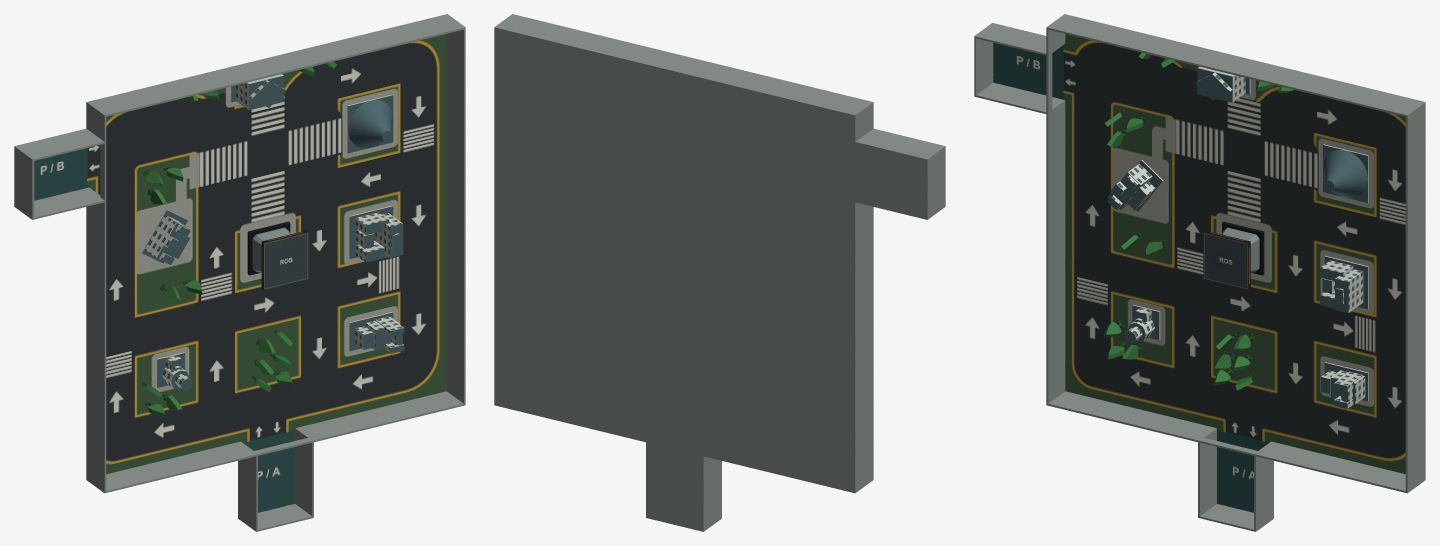
File: ros_sandbox_visual.obj
The picture shows the model from 3 angles, left to right: view 1: azimuth 30°, elevation 25°; view 2: azimuth 150°, elevation 25°; view 3: azimuth 330°, elevation 25°; orthographic projection.
Visible parts, largest first — view 1: sandbox_mesh_007, sandbox_mesh_006, sandbox_mesh_045, sandbox_mesh_001, sandbox_mesh_005, sandbox_mesh_004, sandbox_mesh_003, sandbox_mesh_002, sandbox_mesh_047, sandbox_mesh_046; view 2: sandbox_mesh_007; view 3: sandbox_mesh_007, sandbox_mesh_045, sandbox_mesh_006, sandbox_mesh_001, sandbox_mesh_005, sandbox_mesh_004, sandbox_mesh_003, sandbox_mesh_002, sandbox_mesh_047.
Part boxes in pixels (x1,y1,x2,y2): sandbox_mesh_007: [14, 14, 465, 531]; sandbox_mesh_006: [349, 205, 403, 262]; sandbox_mesh_045: [261, 230, 308, 289]; sandbox_mesh_001: [347, 94, 393, 153]; sandbox_mesh_005: [349, 312, 404, 353]; sandbox_mesh_004: [141, 209, 190, 264]; sandbox_mesh_003: [231, 74, 286, 110]; sandbox_mesh_002: [157, 352, 192, 390]; sandbox_mesh_047: [252, 227, 290, 272]; sandbox_mesh_046: [247, 221, 290, 275]; sandbox_mesh_007: [494, 14, 945, 531]; sandbox_mesh_007: [974, 14, 1425, 531]; sandbox_mesh_045: [1203, 230, 1250, 290]; sandbox_mesh_006: [1320, 256, 1368, 313]; sandbox_mesh_001: [1323, 144, 1368, 202]; sandbox_mesh_005: [1321, 362, 1368, 408]; sandbox_mesh_004: [1107, 160, 1163, 211]; sandbox_mesh_003: [1195, 66, 1250, 102]; sandbox_mesh_002: [1124, 305, 1160, 343]; sandbox_mesh_047: [1222, 227, 1259, 272].
Size of the model in its own units: 4.8 by 4.8 by 0.37.
10 materials, 7 textured.
